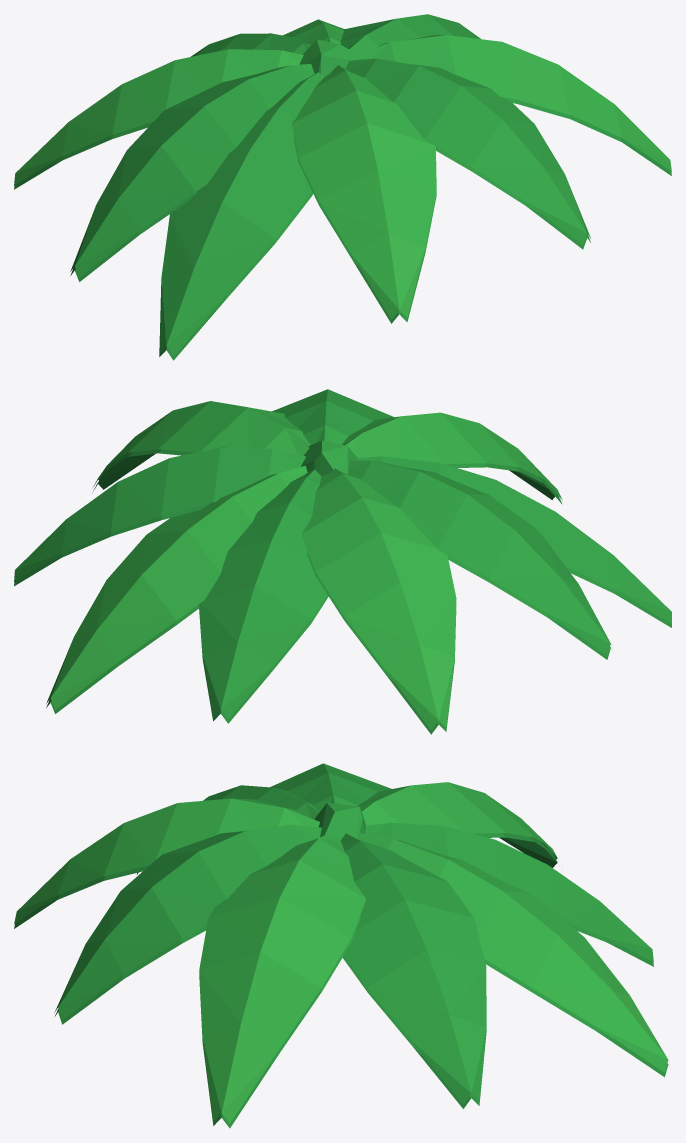
File: PalmCanopy_3.glb
3 views of the same model, one above another, from view 1: azimuth 30°, elevation 25°; view 2: azimuth 150°, elevation 25°; view 3: azimuth 270°, elevation 25° (orthographic). The views are drawn at different scales.
Visible parts, largest first — view 1: PalmCanopy_3; view 2: PalmCanopy_3; view 3: PalmCanopy_3.
Part boxes in pixels (x1,y1,x2,y2): PalmCanopy_3: (14,14,671,360); PalmCanopy_3: (14,389,671,734); PalmCanopy_3: (14,763,668,1128).
Bounding box in the file's own units: 16.45 × 5.26 × 15.62.
1 material, 1 textured.
